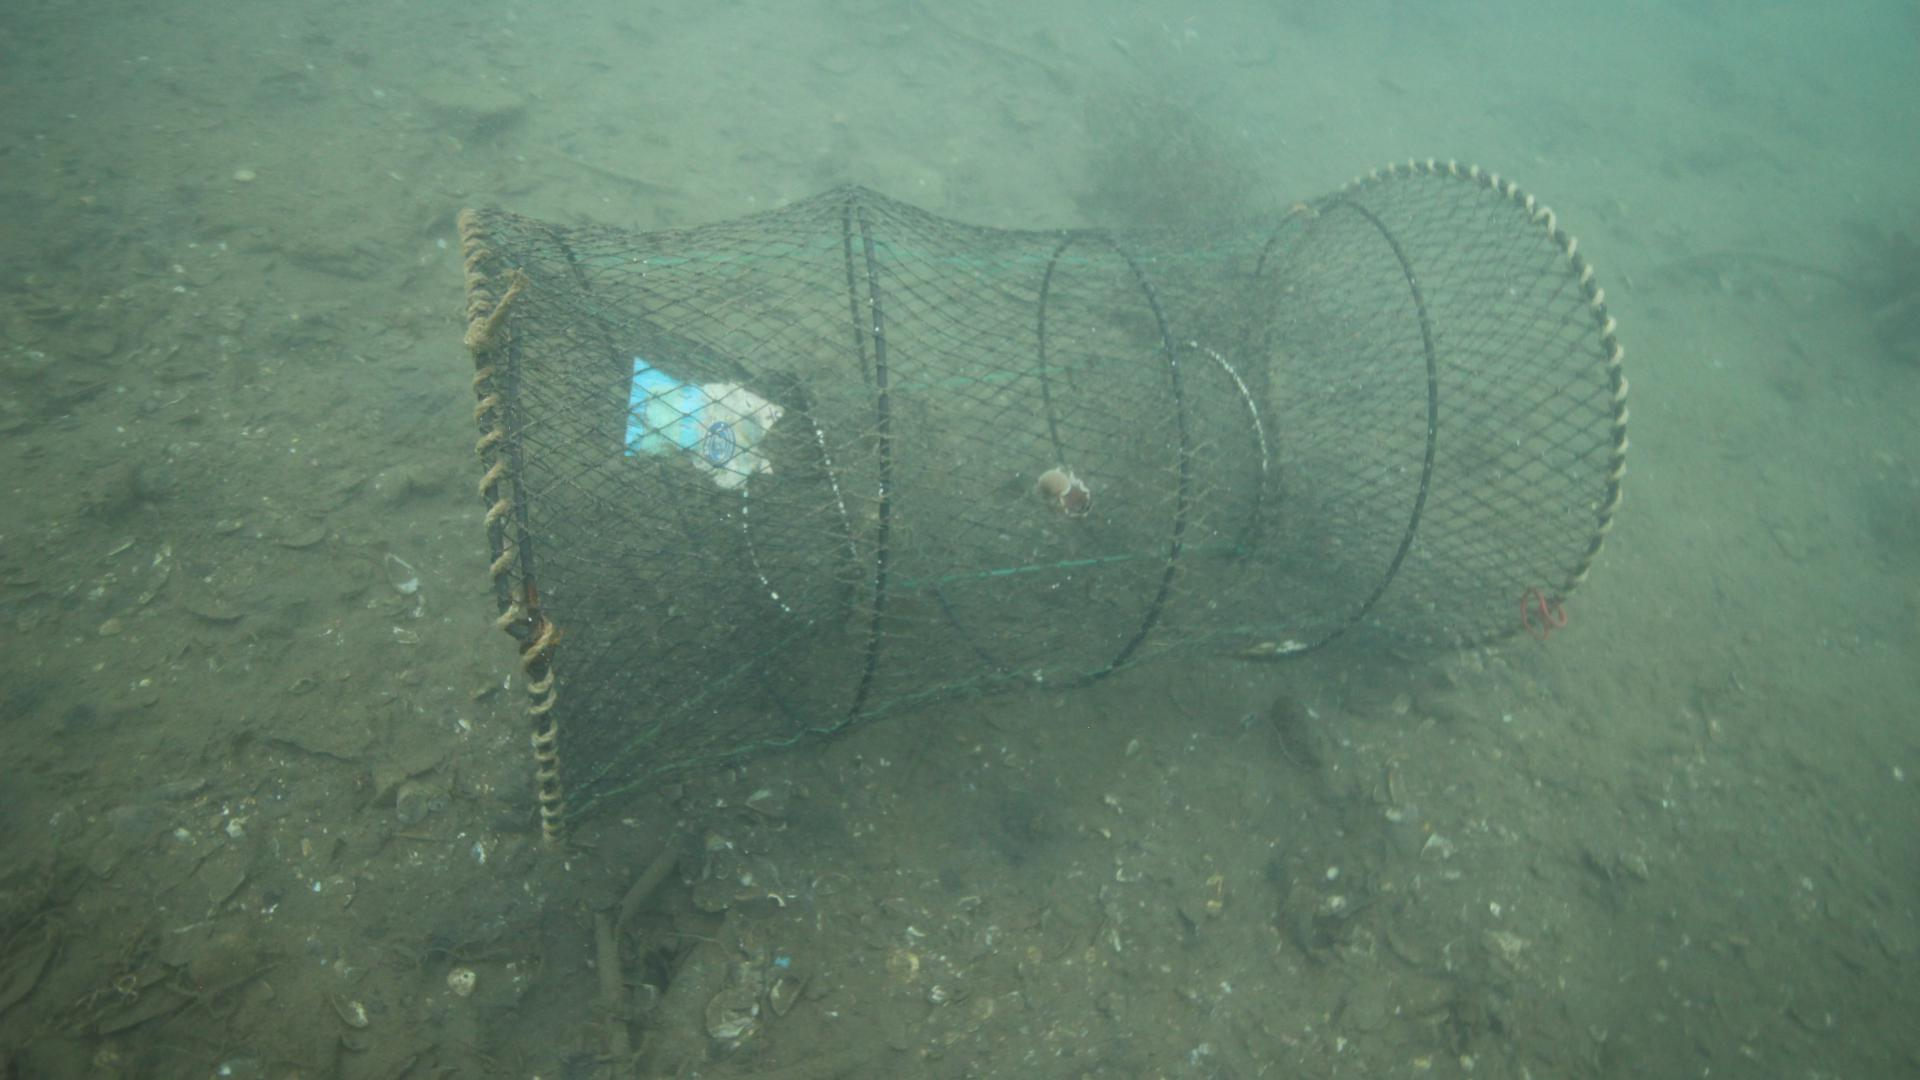spring fish trap: (454, 152, 1629, 855)
